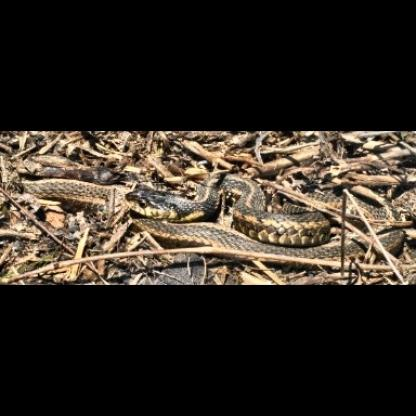Snake: (116, 170, 408, 268), (122, 174, 408, 274)
